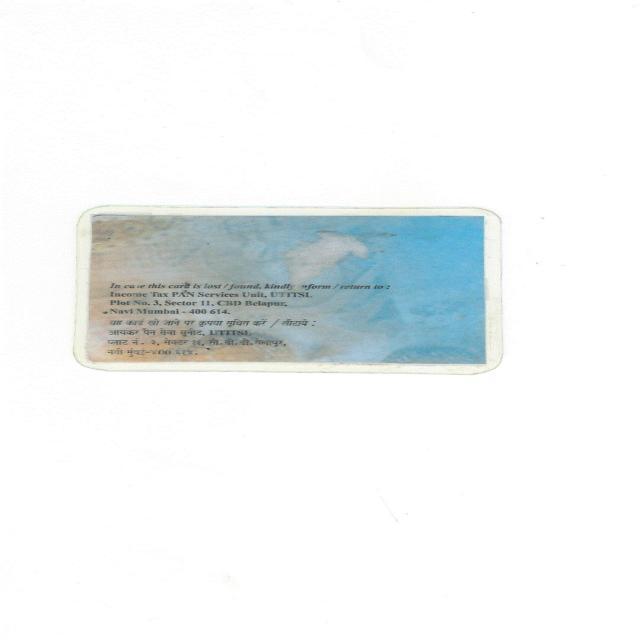pan_card: (92, 216, 488, 364)
